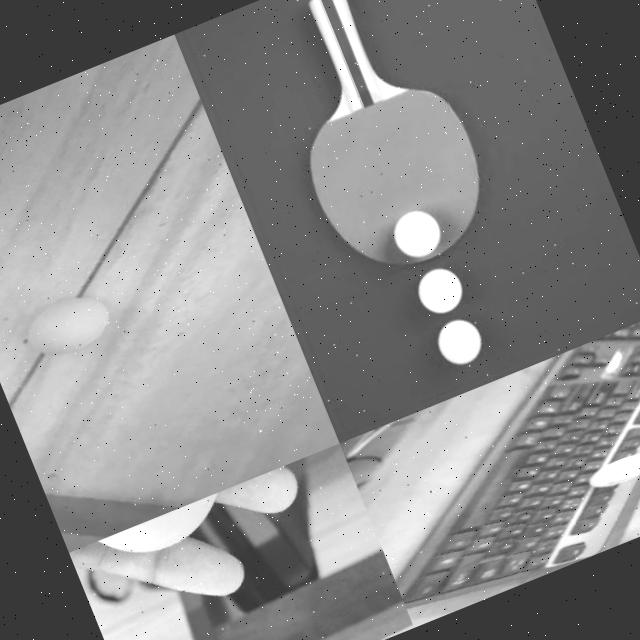ping-pong-ball: (17, 289, 116, 369), (430, 314, 488, 372), (387, 205, 444, 262), (412, 264, 466, 318), (587, 445, 640, 492)
